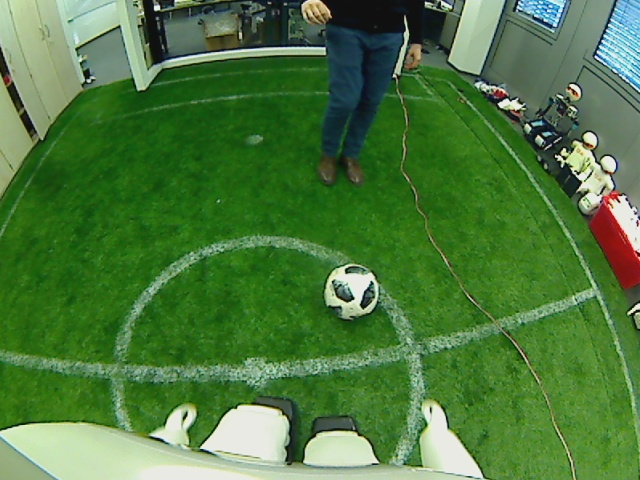ball: (323, 261, 380, 321)
